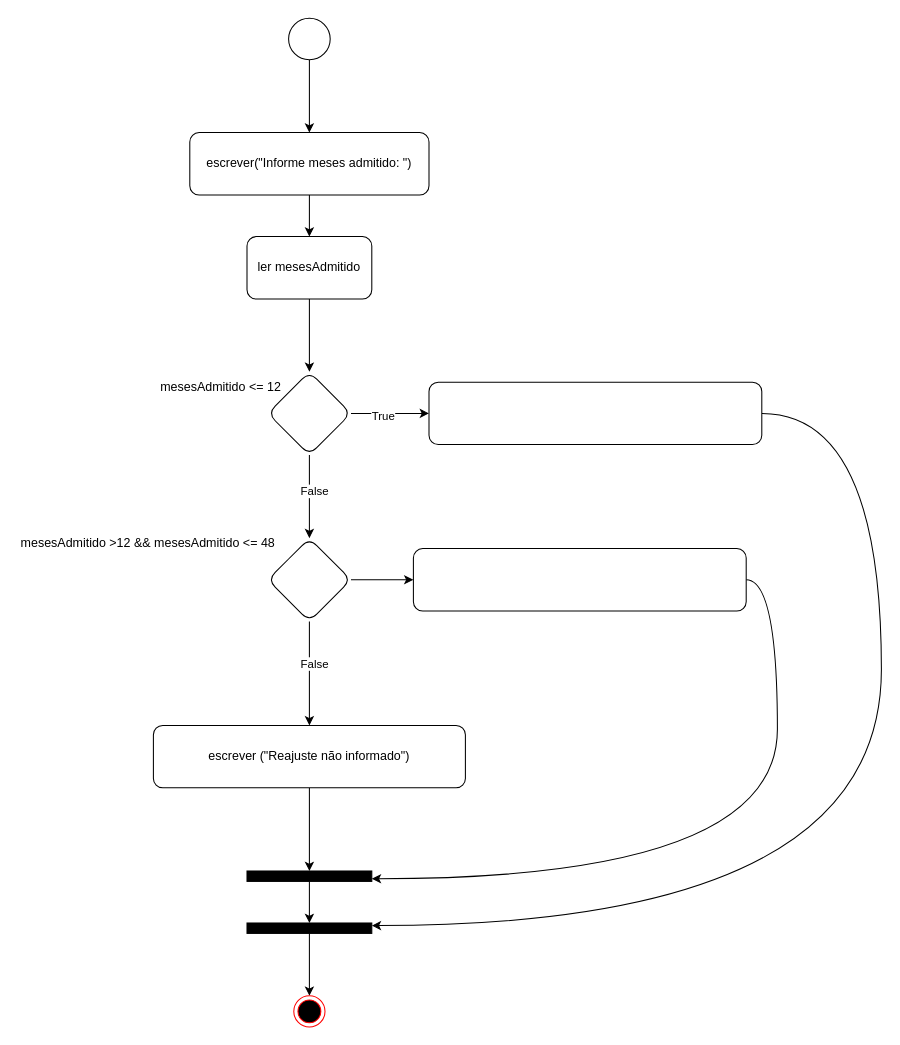
Some shapes in this 900 by 1045 pixel diagram are drawn without their labels. The shapes that lost their labels are listed below. From the top down, each one's centre as x and y in pixels, then its label:
point (595, 413): escrever ("O funcionário irá receber 5% de reajuste")
point (579, 579): escrever ("O funcionário irá receber 7% de reajuste")
